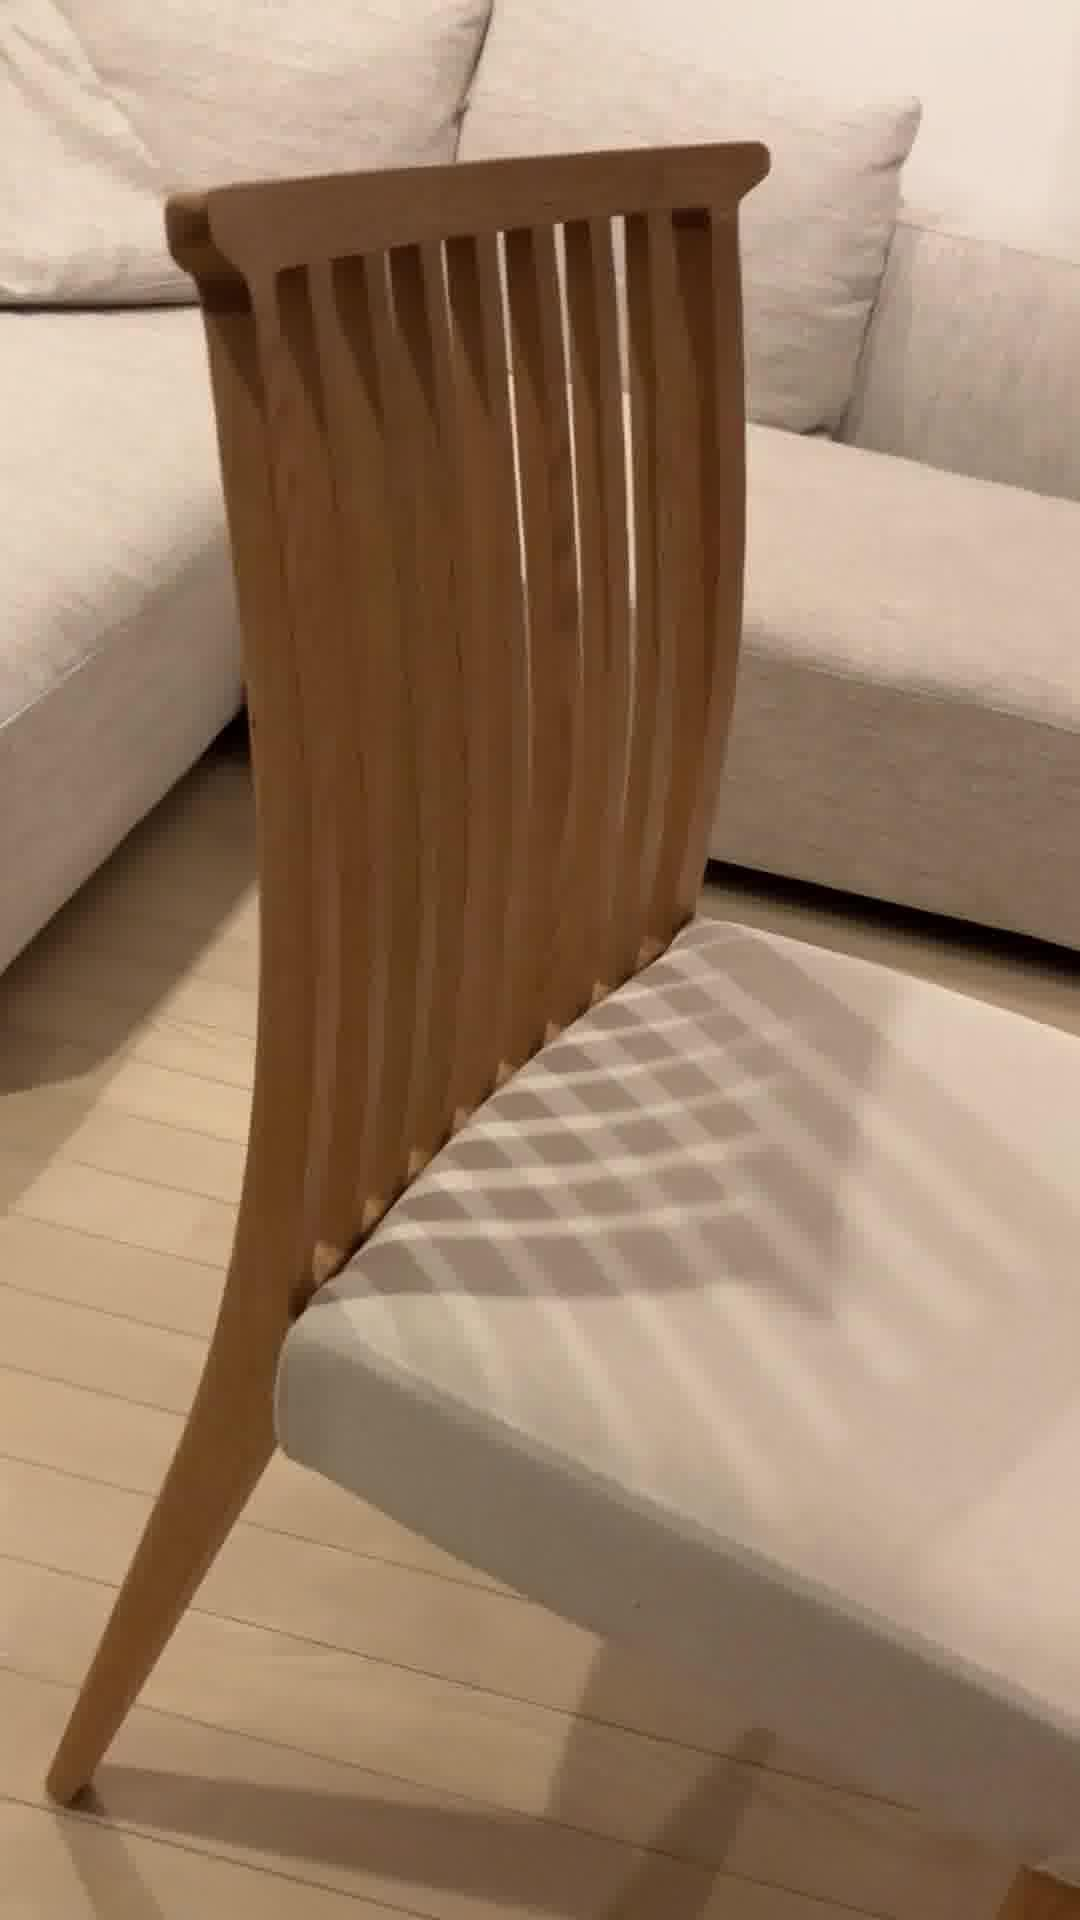takumikan-chair: (44, 128, 1080, 1920)
